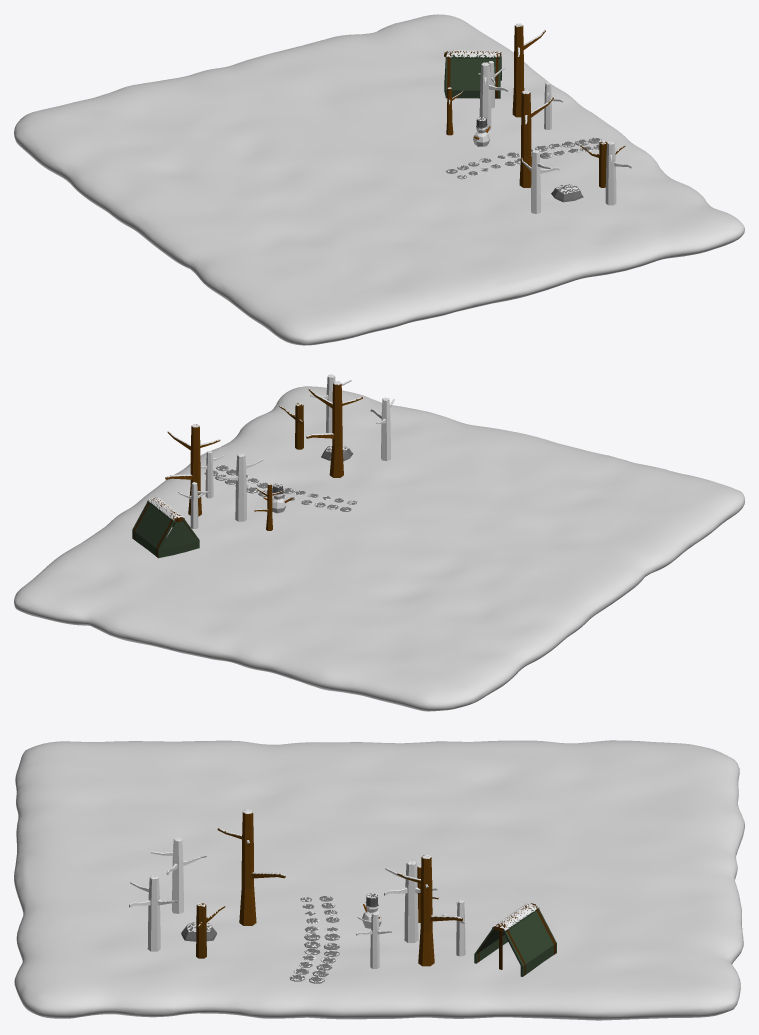
Rendered from Snow Ground.fbx.
3 renders of one model, top to bottom at view 1: azimuth 30°, elevation 25°; view 2: azimuth 150°, elevation 25°; view 3: azimuth 270°, elevation 25°, orthographic. The views are drawn at different scales.
Visible parts, largest first — view 1: Snow_Ground, Props; view 2: Snow_Ground, Props; view 3: Snow_Ground, Props.
Part boxes in pixels (x1,y1,x2,y2): Snow_Ground: [14, 14, 744, 345]; Props: [444, 23, 631, 213]; Snow_Ground: [14, 386, 744, 711]; Props: [132, 374, 394, 558]; Snow_Ground: [14, 740, 744, 1020]; Props: [129, 809, 556, 983].
Bounding box in the file's own units: 7492 × 1803 × 8567.
